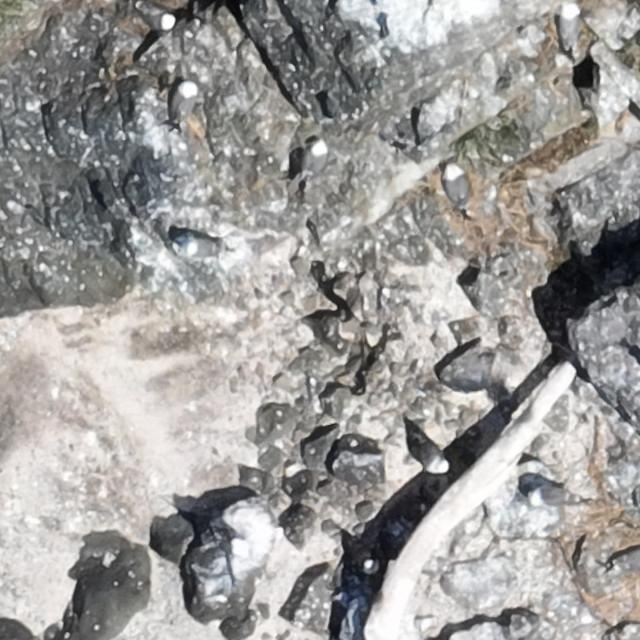umineko: (524, 485, 580, 510), (174, 82, 197, 124), (140, 4, 175, 30), (446, 168, 469, 207), (302, 142, 325, 179), (561, 6, 580, 49), (421, 446, 449, 474), (180, 238, 217, 256), (613, 549, 640, 571)
